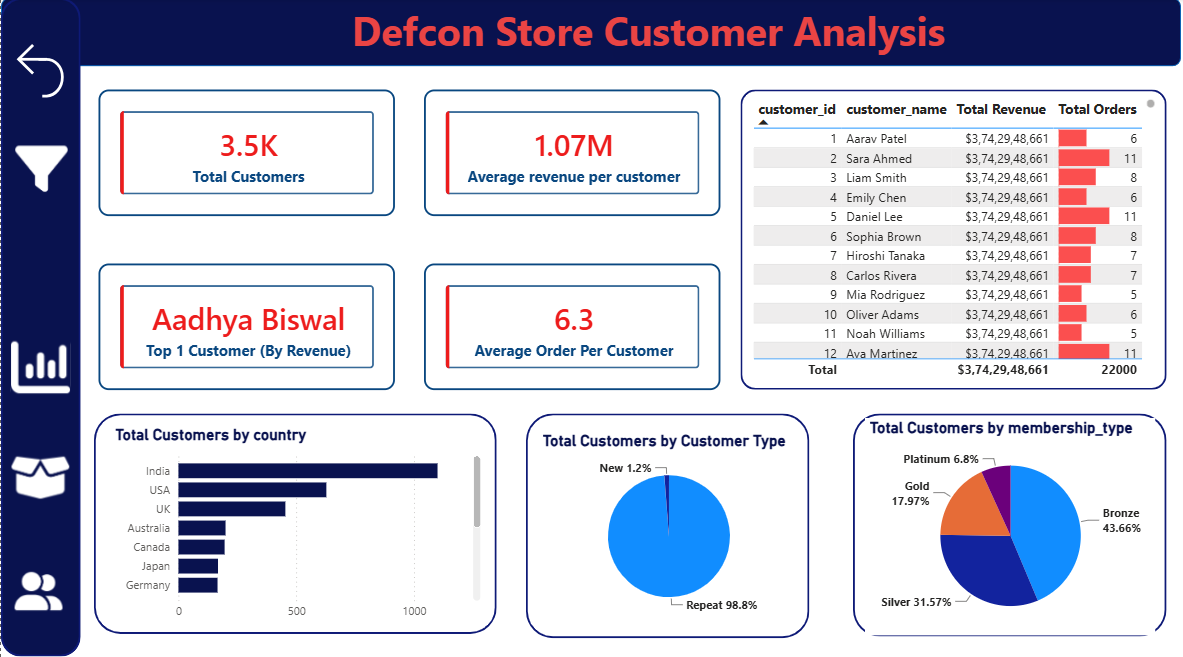

This screenshot's page, from the dashboard's own definition file:
{"tool":"powerbi","page":{"name":"Customer Analysis","canvas":[1280,720],"ordinal":2},"visuals":[{"type":"shape","box":[0,0,1273.7,73.7],"z":0},{"type":"shape","box":[0,0,85.8,710.8],"z":0,"group":"g5"},{"type":"shape","box":[797.9,98.9,460,324.2],"z":0,"group":"g4"},{"type":"shape","box":[101.1,448.4,434.7,237.9],"z":0,"group":"g1"},{"type":"shape","box":[566.3,448.4,305.8,242.5],"z":0,"group":"g3"},{"type":"shape","box":[920,448.4,338.4,240.8],"z":0,"group":"g2"},{"type":"tableEx","fields":{"Values":["customers.customer_id","customers.customer_name","Measure Tables.Total Revenue","Measure Tables.Total Orders"]},"box":[806.5,103.2,444.2,311.6],"z":1000,"group":"g4"},{"type":"actionButton","box":[11.3,150.6,64.8,68],"z":1000,"group":"g5"},{"type":"group","id":"g1","title":"Group 1","box":[101.1,448.4,435.8,237.9],"z":1000},{"type":"pieChart","fields":{"Y":["Measure Tables.Total Customers"],"Category":["memberships.membership_type"]},"box":[932.4,452.7,313.6,234.4],"z":1000,"group":"g2"},{"type":"barChart","fields":{"Y":["Measure Tables.Total Customers"],"Category":["customers.country"]},"box":[118.3,462,404.1,217.7],"z":1000,"group":"g1"},{"type":"pieChart","fields":{"Category":["customers.Customer Type"],"Y":["Measure Tables.Total Customers"]},"box":[578.9,467.7,282.1,206],"z":1000,"group":"g3"},{"type":"actionButton","box":[4.9,42.1,76.1,72.9],"z":2000,"group":"g5"},{"type":"group","id":"g2","title":"Group 2","box":[920,448.4,338.9,242.1],"z":2000},{"type":"group","id":"g3","title":"Group 3","box":[566.3,448.4,305.3,242.1],"z":3000},{"type":"actionButton","box":[0,482.1,85.3,70.4],"z":3000,"group":"g5"},{"type":"group","id":"g4","title":"Group 4","box":[797.9,98.9,460,324.2],"z":4000},{"type":"actionButton","box":[0,610.1,81.1,59.7],"z":4000,"group":"g5"},{"type":"cardVisual","fields":{"Data":["Min(customers.customer_name)"]},"box":[105.3,286.3,320,136.8],"z":5000},{"type":"cardVisual","fields":{"Data":["Measure Tables.Total Customers"]},"box":[105.3,98.9,320,136.8],"z":6000},{"type":"cardVisual","fields":{"Data":["Measure Tables.Average Order Per Customer"]},"box":[456.8,286.3,320,136.8],"z":7000},{"type":"cardVisual","fields":{"Data":["Measure Tables.Average revenue per customer"]},"box":[456.8,98.9,320,136.8],"z":8000},{"type":"group","id":"g5","title":"Ribbon","box":[0,0,85.8,712.1],"z":9000},{"type":"actionButton","box":[0,362,85.8,72.1],"z":11000},{"type":"textbox","box":[348.3,0,701.8,73.8],"z":12000}]}

Visuals, with their boxes in screenshot pixels (x1, y1, x2, y2):
shape: 0,0,1182,63
shape: 0,0,77,656
shape: 740,86,1169,388
shape: 91,412,496,633
shape: 525,412,810,638
shape: 854,412,1170,636
tableEx - customers.customer_id x customers.customer_name: 748,90,1162,380
actionButton: 7,134,68,198
"Group 1" group: 91,412,497,633
pieChart - Measure Tables.Total Customers x memberships.membership_type: 866,416,1158,634
barChart - Measure Tables.Total Customers x customers.country: 107,424,484,627
pieChart - customers.Customer Type x Measure Tables.Total Customers: 536,430,799,622
actionButton: 1,33,72,101
"Group 2" group: 854,412,1170,637
"Group 3" group: 525,412,809,637
actionButton: 0,443,76,509
"Group 4" group: 740,86,1169,388
actionButton: 0,562,72,618
cardVisual - Min(customers.customer_name): 95,261,393,388
cardVisual - Measure Tables.Total Customers: 95,86,393,213
cardVisual - Measure Tables.Average Order Per Customer: 423,261,721,388
cardVisual - Measure Tables.Average revenue per customer: 423,86,721,213
"Ribbon" group: 0,0,77,656
actionButton: 0,331,77,398
textbox: 321,0,975,63
